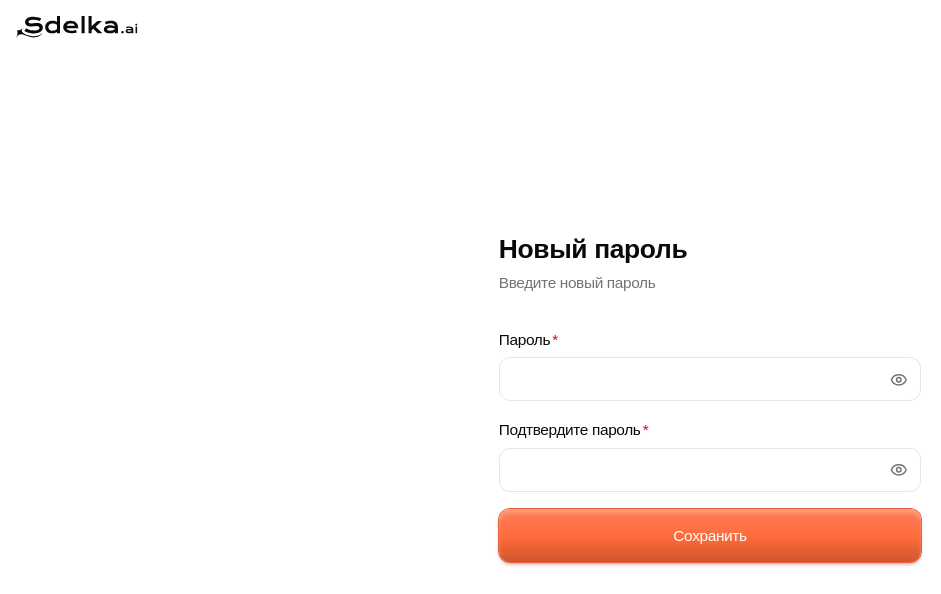
Scenario: ResetPasswordPage › inline error: short password (client-side validation)
Type "short" into the password field labelled "Пароль".
click(710, 379); type("short")  # box [499,357,921,401]
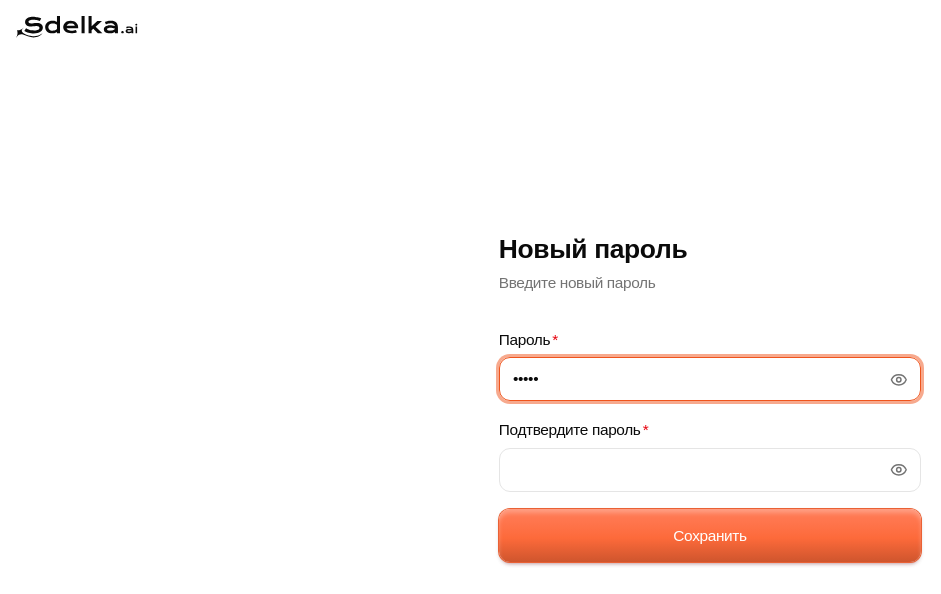
Type "short" into the password field labelled "Подтвердите пароль".
click(710, 470); type("short")  # box [499,448,921,492]
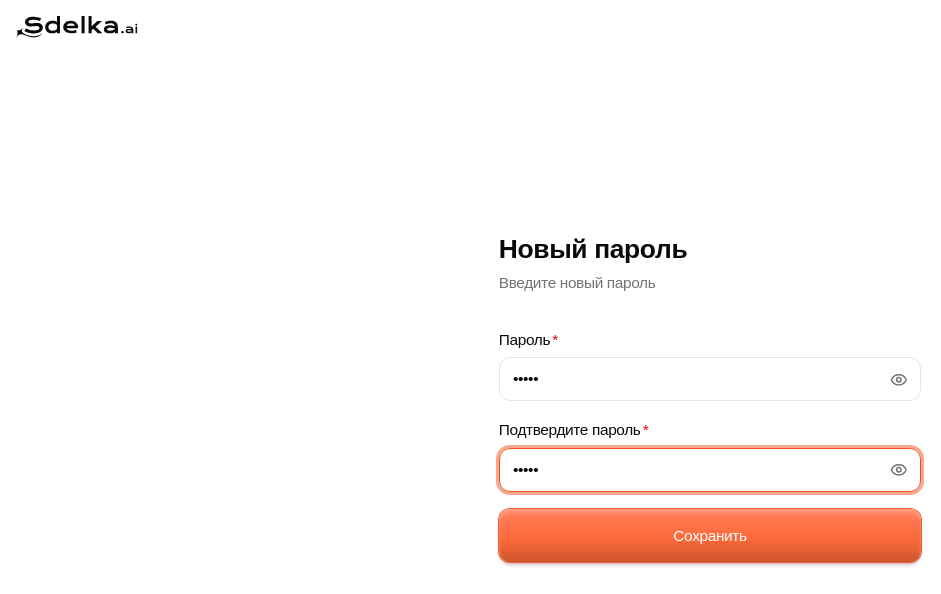
Click the button "Сохранить".
click(710, 536)  # box [499,509,921,562]
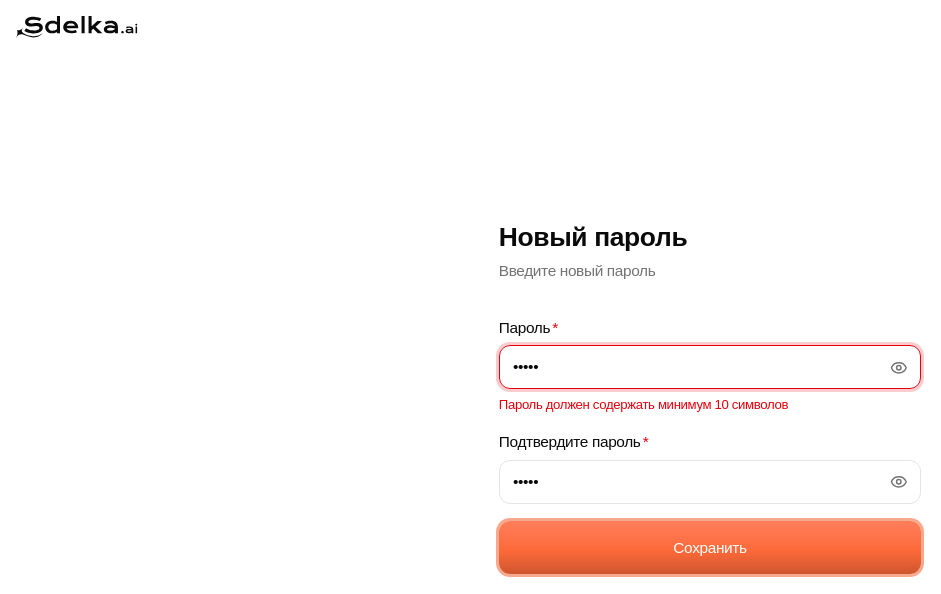
Expected: the text "Пароль должен содержать минимум 10 символов" is shown, [499,397,788,412]
